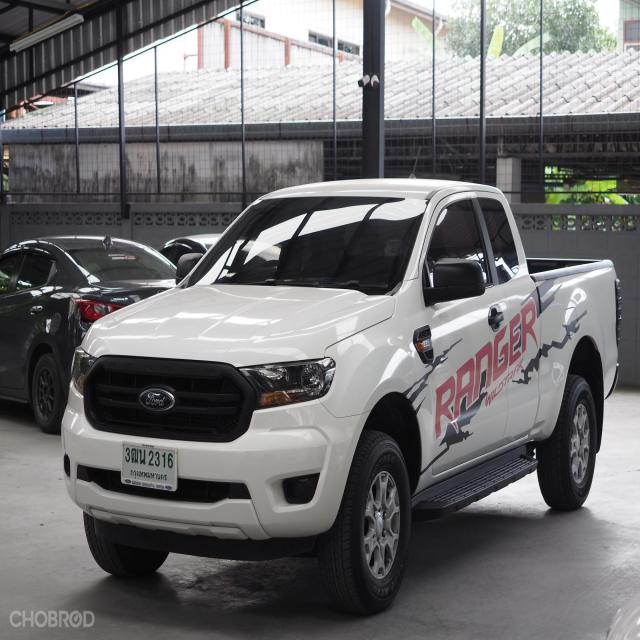license_plate: (119, 439, 180, 496)
